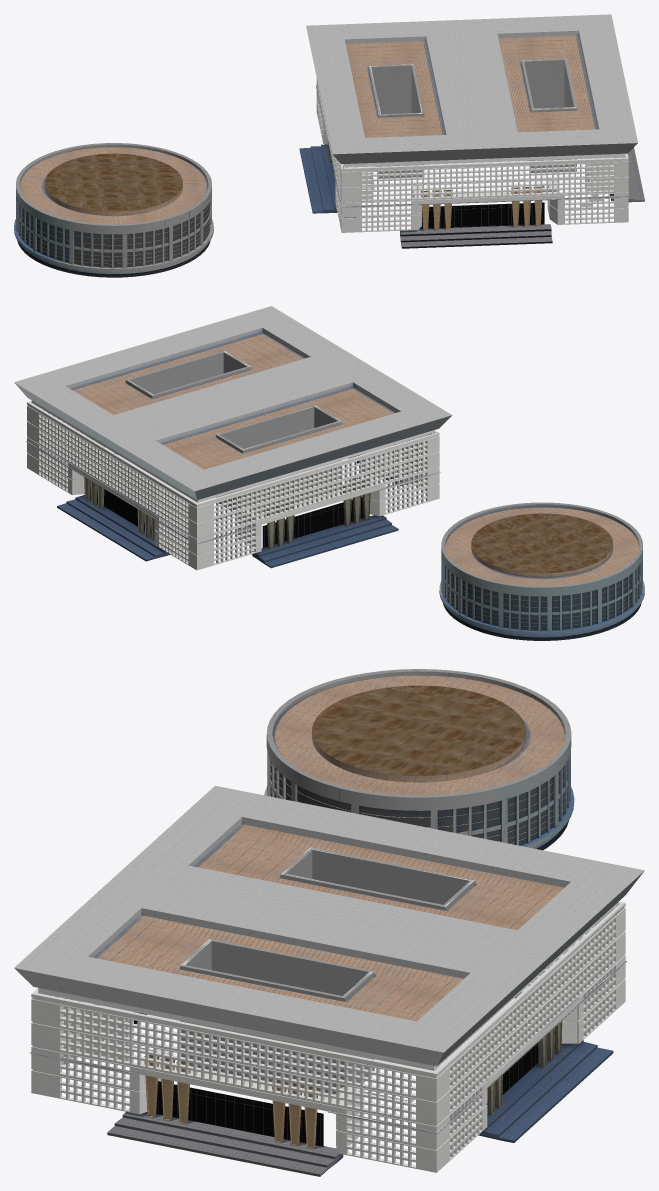
File: target.glb
3 renders of one model, top to bottom at view 1: azimuth 30°, elevation 25°; view 2: azimuth 150°, elevation 25°; view 3: azimuth 270°, elevation 25°, orthographic. The views are drawn at different scales.
Visible parts, largest first — view 1: 纹理, 会议中心000, 白框, 纯色; view 2: 纹理, 白框, 会议中心000, 纯色; view 3: 纹理, 白框, 会议中心000, 纯色.
Boxes of the visible parts, x1,y1,x2,y2 form: 纹理: (299, 14, 644, 248); 会议中心000: (14, 143, 213, 277); 白框: (316, 58, 629, 232); 纯色: (327, 141, 616, 235); 纹理: (14, 306, 452, 568); 白框: (26, 350, 440, 570); 会议中心000: (439, 502, 644, 640); 纯色: (84, 455, 382, 548); 纹理: (14, 785, 644, 1176); 白框: (30, 847, 626, 1172); 会议中心000: (264, 669, 574, 850); 纯色: (134, 1013, 568, 1148).
Bounding box in the file's own units: 227 × 34.09 × 135.
4 materials, 4 textured.
